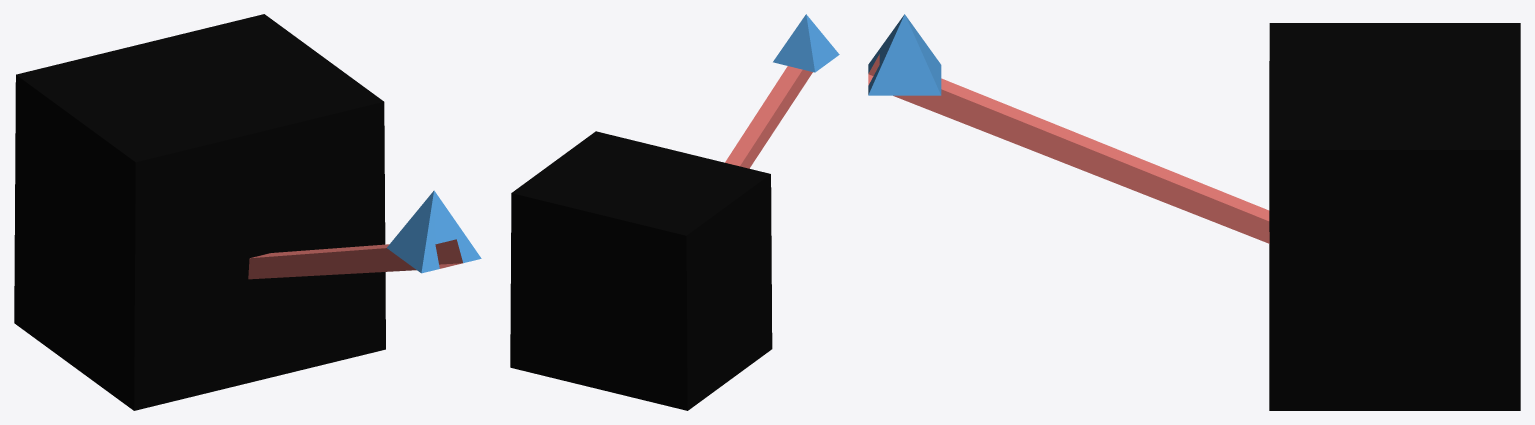
3 views of the same model, side by side, from view 1: azimuth 30°, elevation 25°; view 2: azimuth 150°, elevation 25°; view 3: azimuth 270°, elevation 25° (orthographic). The views are drawn at different scales.
Visible parts, largest first — view 1: Pyramid; view 2: Pyramid; view 3: Pyramid.
Boxes of the visible parts, box(x1,y1,x2,y2) form: Pyramid: box(14, 14, 481, 410); Pyramid: box(510, 14, 839, 410); Pyramid: box(868, 14, 1520, 410).
Bounding box in the file's own units: 835 × 1006 × 1788.
